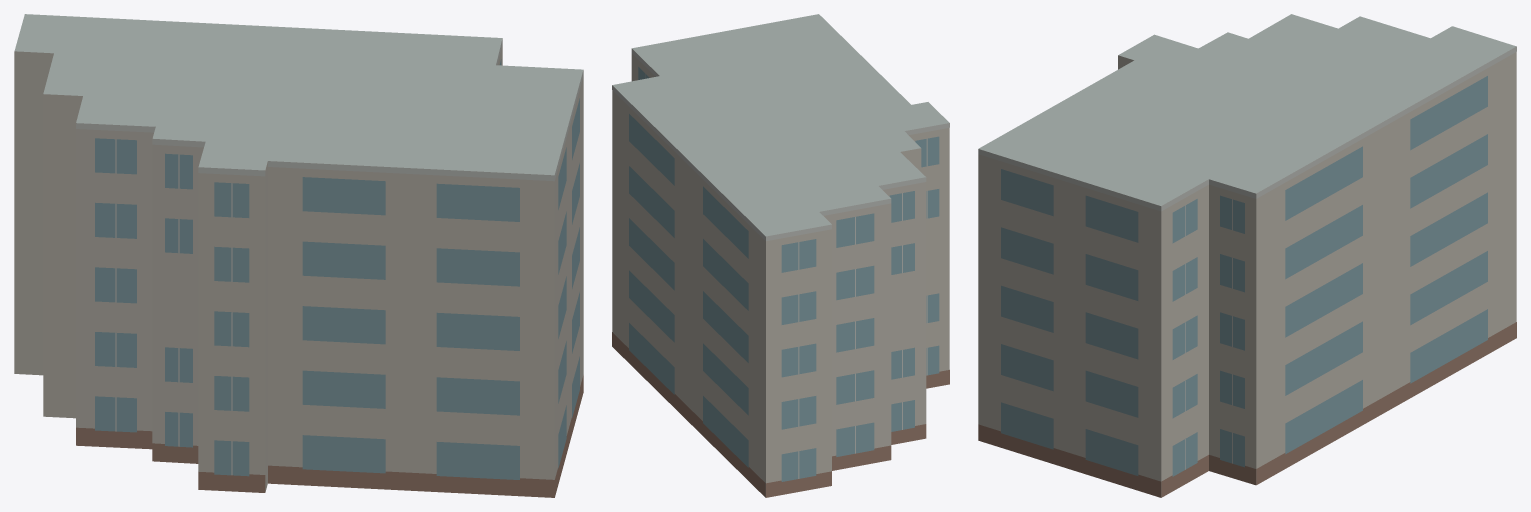
The model's file is survey-upis-32921284.glb.
The picture shows the model from 3 angles, left to right: view 1: azimuth 30°, elevation 25°; view 2: azimuth 150°, elevation 25°; view 3: azimuth 270°, elevation 25°; orthographic projection. The views are drawn at different scales.
Parts seen in each view (by area): view 1: survey-upis-32921284.tmp; view 2: survey-upis-32921284.tmp; view 3: survey-upis-32921284.tmp.
Boxes of the visible parts, box(x1,y1,x2,y2) form: survey-upis-32921284.tmp: box(14, 14, 583, 497); survey-upis-32921284.tmp: box(612, 14, 949, 497); survey-upis-32921284.tmp: box(978, 14, 1516, 497).
Bounding box in the file's own units: 18.8 × 13.3 × 22.26.
